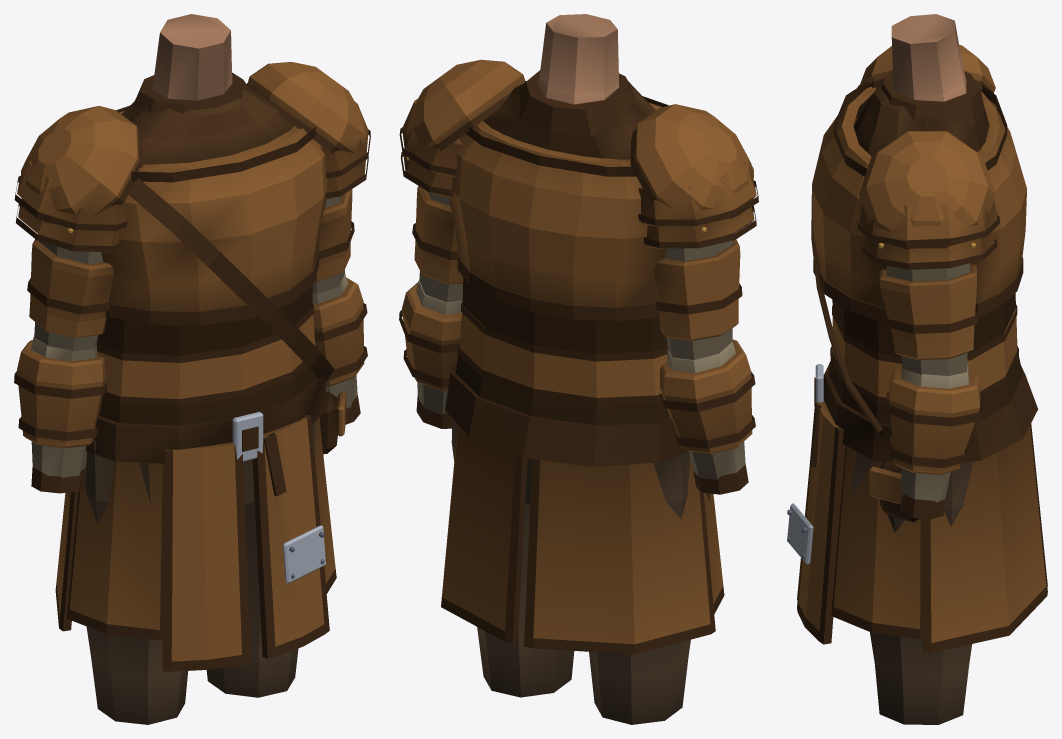
Rendered from a_leather.glb.
3 renders of one model, left to right at view 1: azimuth 30°, elevation 25°; view 2: azimuth 150°, elevation 25°; view 3: azimuth 270°, elevation 25°, orthographic. The views are drawn at different scales.
Visible parts, largest first — view 1: Breast, ArmR_Pauldron, Lames, TassetR0, TassetR1, TassetL0, ArmL_Pauldron, LegR_Thigh, Belt, Torso, Neck, ArmR_Vambrace (+11 smaller); view 2: TassetR2, BackPlate, ArmR_Pauldron, Lames, TassetL2, ArmL_Pauldron, Neck, Belt, LegR_Thigh, ArmR_Vambrace, LegL_Thigh, Torso (+7 smaller); view 3: ArmL_Pauldron, TassetL2, TassetL1, Lames, Breast, LegL_Thigh, Neck, ArmL_Vambrace, TassetL0, BackPlate, Belt, Torso (+8 smaller).
Part boxes in pixels (left/top/right/bottom): Breast: left=101, top=125, right=327, bottom=325; ArmR_Pauldron: left=14, top=106, right=143, bottom=338; Lames: left=96, top=286, right=316, bottom=425; TassetR0: left=162, top=442, right=251, bottom=671; TassetR1: left=67, top=461, right=164, bottom=640; TassetL0: left=252, top=415, right=329, bottom=658; ArmL_Pauldron: left=246, top=62, right=370, bottom=281; LegR_Thigh: left=68, top=440, right=187, bottom=724; Belt: left=85, top=376, right=327, bottom=496; Torso: left=121, top=85, right=293, bottom=164; Neck: left=131, top=14, right=250, bottom=114; ArmR_Vambrace: left=14, top=340, right=107, bottom=448; TassetR2: left=524, top=458, right=715, bottom=654; BackPlate: left=448, top=121, right=666, bottom=321; ArmR_Pauldron: left=630, top=104, right=758, bottom=340; Lames: left=455, top=277, right=669, bottom=425; TassetL2: left=441, top=425, right=527, bottom=643; ArmL_Pauldron: left=399, top=59, right=525, bottom=284; Neck: left=518, top=14, right=637, bottom=136; Belt: left=445, top=366, right=688, bottom=466; LegR_Thigh: left=589, top=451, right=710, bottom=724; ArmR_Vambrace: left=659, top=339, right=755, bottom=453; LegL_Thigh: left=451, top=418, right=574, bottom=697; Torso: left=483, top=81, right=655, bottom=461; ArmL_Pauldron: left=857, top=131, right=999, bottom=360; TassetL2: left=923, top=424, right=1047, bottom=652; TassetL1: left=831, top=445, right=923, bottom=639; Lames: left=829, top=293, right=1022, bottom=424; Breast: left=812, top=86, right=887, bottom=322; LegL_Thigh: left=851, top=452, right=973, bottom=724; Neck: left=880, top=14, right=985, bottom=127; ArmL_Vambrace: left=886, top=368, right=981, bottom=474; TassetL0: left=797, top=400, right=845, bottom=644; BackPlate: left=970, top=91, right=1026, bottom=317; Belt: left=810, top=362, right=1038, bottom=467; Torso: left=853, top=78, right=989, bottom=156.
Size of the model in its own units: 0.577 by 1.1 by 0.3954.
